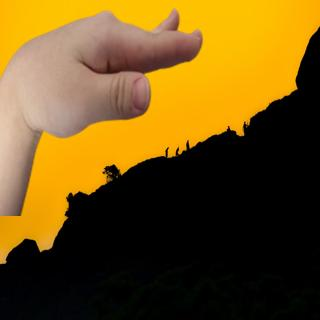Wait: (2, 4, 217, 138)
